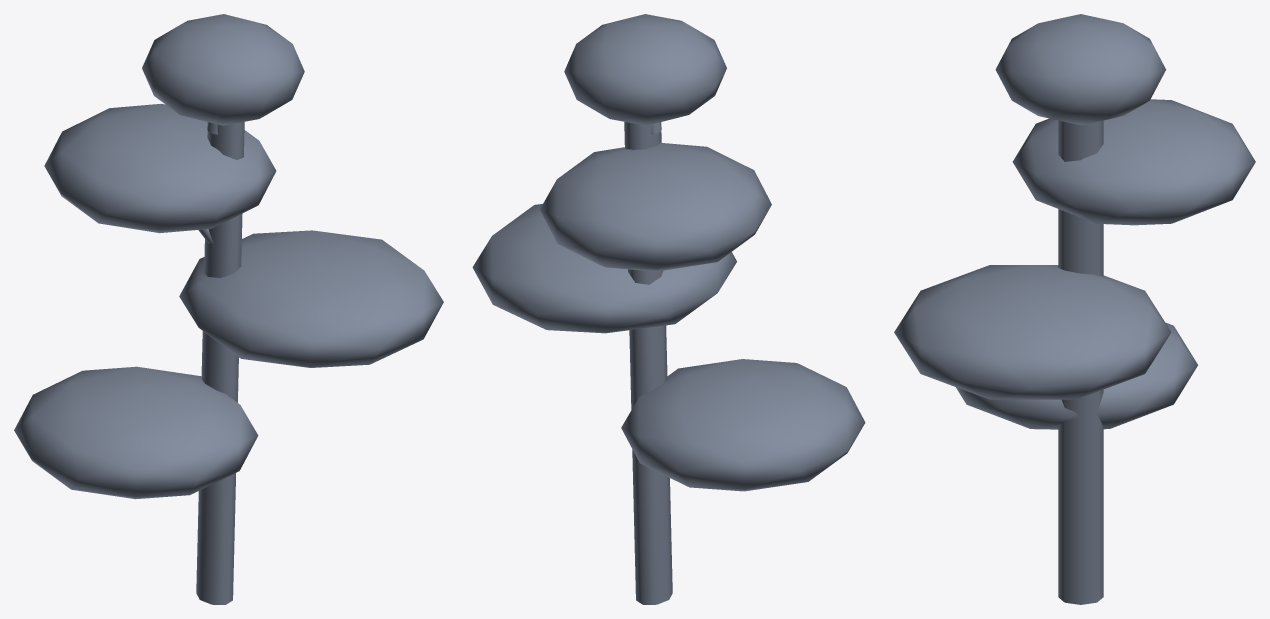
The model's file is garden-conifer-layered-lite.glb.
The picture shows the model from 3 angles, left to right: view 1: azimuth 30°, elevation 25°; view 2: azimuth 150°, elevation 25°; view 3: azimuth 270°, elevation 25°; orthographic projection.
Parts seen in each view (by area): view 1: garden-conifer-layered; view 2: garden-conifer-layered; view 3: garden-conifer-layered.
Part boxes in pixels (left/top/right/bottom): garden-conifer-layered: left=14, top=14, right=443, bottom=604; garden-conifer-layered: left=472, top=14, right=865, bottom=604; garden-conifer-layered: left=894, top=14, right=1255, bottom=604.
Size of the model in its own units: 2 by 2.9 by 1.65.
